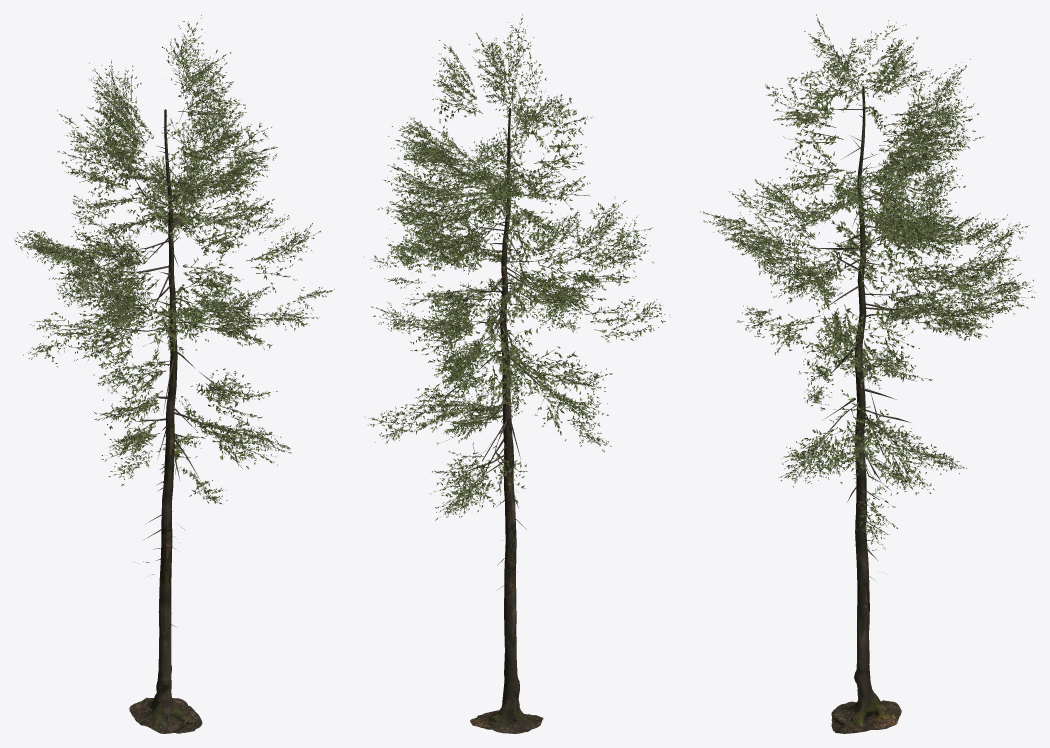
File: fir_tree_01-b-medium.glb
3 renders of one model, left to right at view 1: azimuth 30°, elevation 25°; view 2: azimuth 150°, elevation 25°; view 3: azimuth 270°, elevation 25°, orthographic. The views are drawn at different scales.
Parts seen in each view (by area): view 1: NurbsPath.004; view 2: NurbsPath.004; view 3: NurbsPath.004.
Part boxes in pixels (bbox=[...]): NurbsPath.004: bbox=[14, 15, 334, 733]; NurbsPath.004: bbox=[363, 14, 670, 733]; NurbsPath.004: bbox=[699, 14, 1035, 733].
Size of the model in its own units: 5.53 by 14.04 by 6.
Materials: 4 (4 with a texture image).
